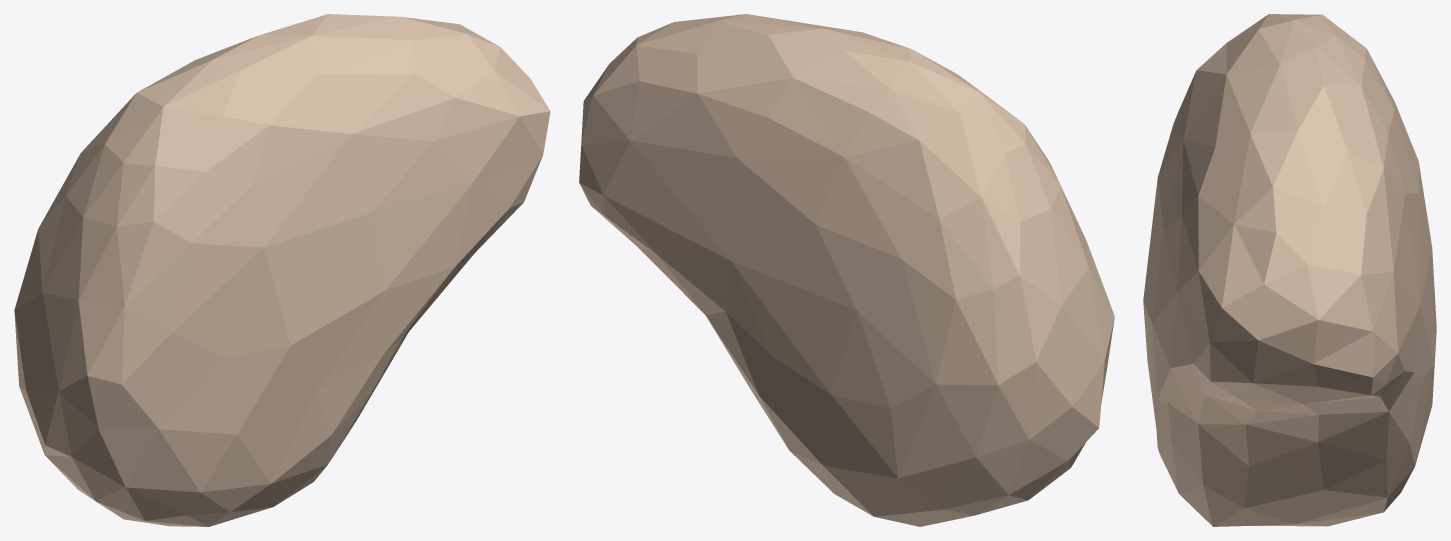
3 renders of one model, left to right at view 1: azimuth 30°, elevation 25°; view 2: azimuth 150°, elevation 25°; view 3: azimuth 270°, elevation 25°, orthographic. The views are drawn at different scales.
Parts seen in each view (by area): view 1: 238.obj; view 2: 238.obj; view 3: 238.obj.
Part boxes in pixels (x1=…): 238.obj: x1=14, y1=14, x2=550, y2=526; 238.obj: x1=579, y1=14, x2=1114, y2=526; 238.obj: x1=1143, y1=14, x2=1436, y2=526.
Bounding box in the file's own units: 719 × 626 × 323.
